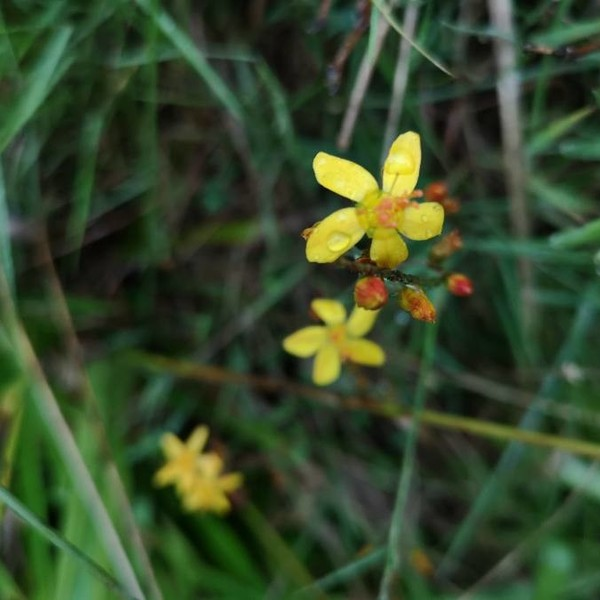obstacle: (259, 136, 480, 386)
